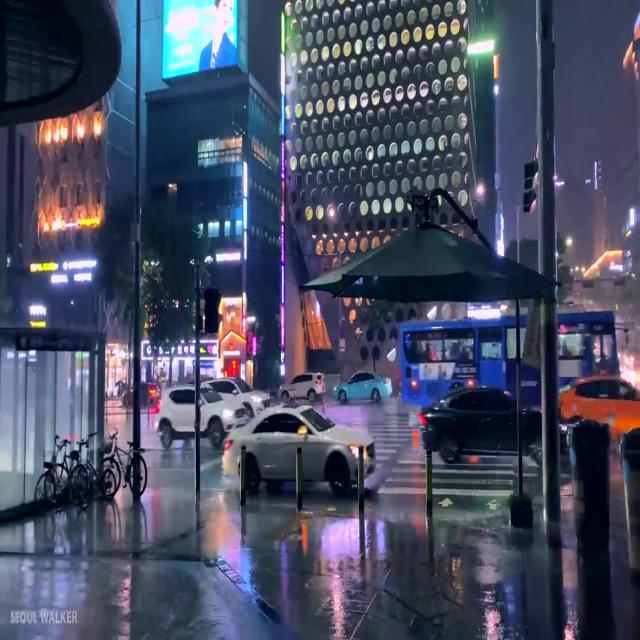Car: (216, 409, 373, 483)
